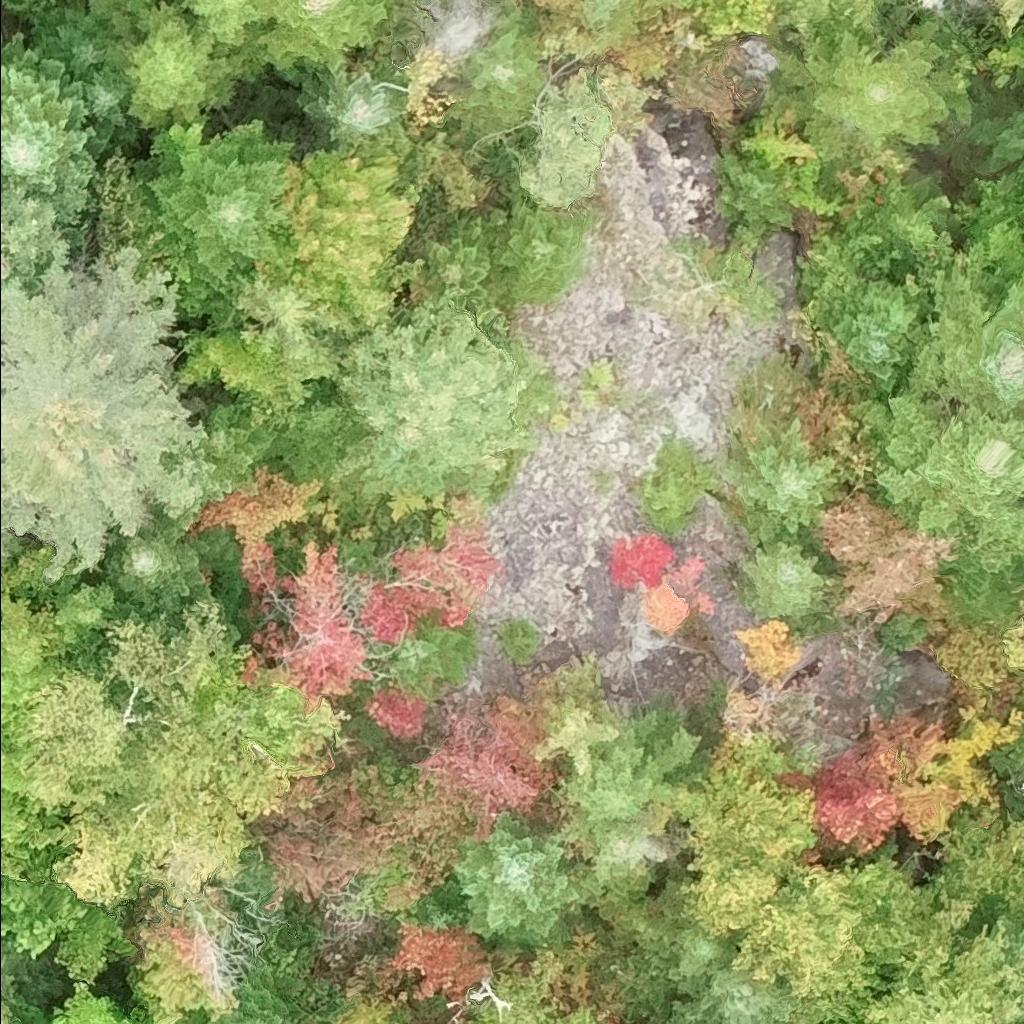crown: (15, 602, 351, 915), (0, 239, 210, 585), (777, 695, 1023, 865), (330, 291, 530, 496), (0, 544, 114, 882), (729, 854, 939, 1023), (249, 759, 476, 913), (127, 117, 295, 315), (855, 384, 1023, 576), (674, 731, 816, 941), (775, 15, 974, 163), (793, 167, 958, 300), (555, 707, 715, 843), (412, 694, 557, 843), (854, 896, 1023, 1023), (253, 539, 372, 713), (275, 140, 413, 288), (905, 246, 1023, 419), (821, 490, 962, 634), (357, 515, 504, 649), (100, 508, 248, 636), (451, 809, 583, 944), (190, 466, 324, 595), (0, 29, 98, 199), (108, 0, 236, 128), (721, 417, 846, 546), (812, 277, 932, 396), (0, 153, 97, 294), (518, 78, 613, 211), (524, 653, 621, 779), (132, 910, 240, 1023), (934, 804, 1023, 938), (451, 11, 547, 131), (227, 267, 349, 360), (253, 0, 390, 77), (484, 202, 589, 299), (0, 848, 90, 958), (190, 402, 282, 501), (384, 920, 493, 1001), (296, 70, 406, 143), (740, 533, 827, 624), (187, 960, 310, 1023), (662, 967, 798, 1023), (177, 331, 283, 399), (497, 949, 594, 1023), (713, 153, 795, 238), (394, 615, 477, 697), (27, 0, 115, 76), (946, 166, 1023, 250), (183, 0, 265, 78), (80, 63, 140, 162), (422, 214, 490, 301), (420, 0, 504, 70), (664, 920, 741, 996), (774, 0, 900, 45), (740, 110, 816, 170), (959, 106, 1023, 176), (964, 215, 1023, 285), (607, 532, 678, 590), (686, 0, 786, 40), (364, 678, 429, 738), (48, 982, 133, 1023), (89, 0, 154, 42), (977, 32, 1023, 89), (994, 914, 1023, 962), (988, 0, 1023, 37), (1001, 621, 1023, 672), (582, 0, 621, 28), (456, 1000, 498, 1023), (0, 968, 17, 1023), (967, 0, 992, 16), (916, 0, 946, 10), (826, 1020, 843, 1023), (1018, 1014, 1023, 1023), (1021, 994, 1023, 1007)
